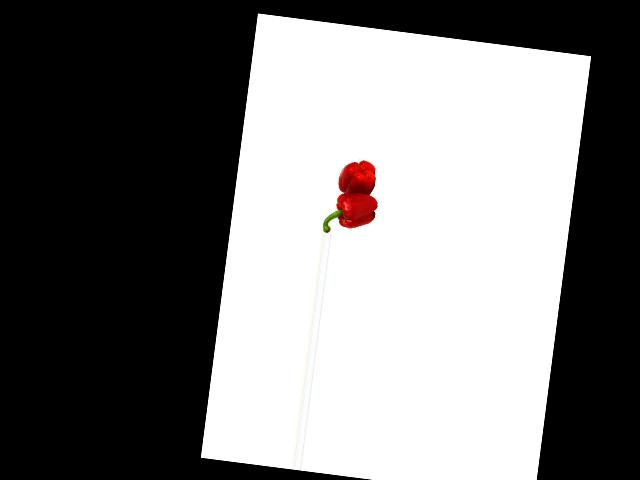bell_pepper: (335, 157, 379, 196)
